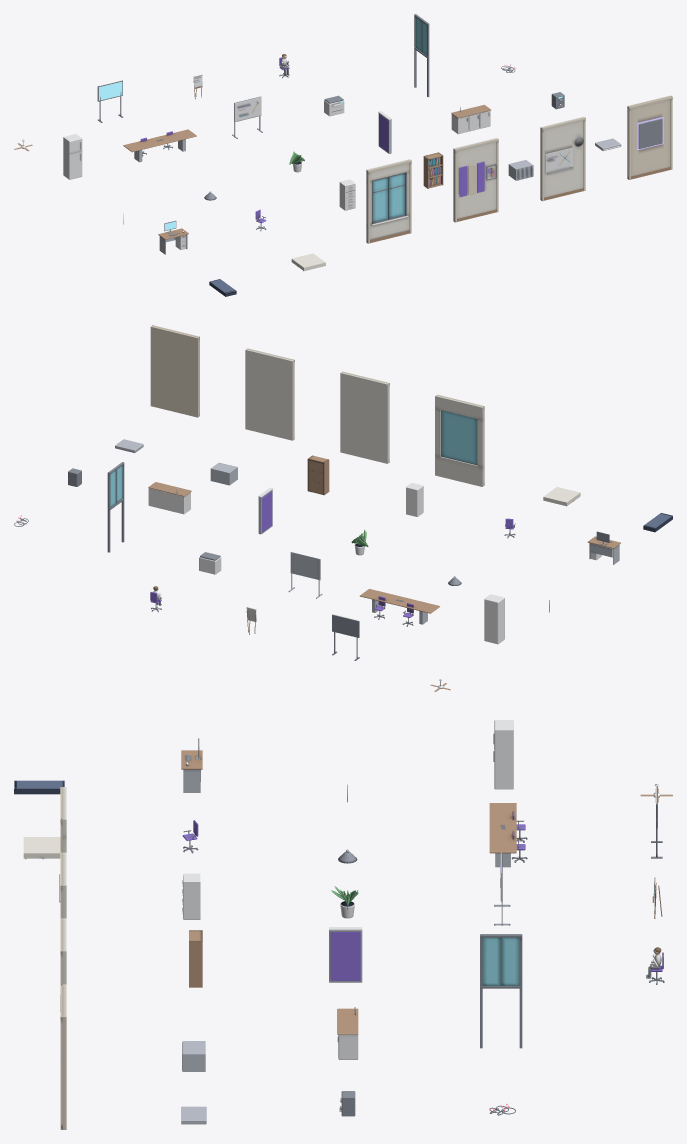
File: office.glb
The picture shows the model from 3 angles, top to bottom: view 1: azimuth 30°, elevation 25°; view 2: azimuth 150°, elevation 25°; view 3: azimuth 270°, elevation 25°; orthographic projection. The views are drawn at different scales.
Parts seen in each view (by area): view 1: WallWindow, WallLogo, WallBoard, WallPlain, Counter, MeetingTable, Fridge, GlassTransom, Shelf, Whiteboard, Desk, Partition (+2 smaller); view 2: WallBoard, WallWindow, WallPlain, WallLogo, MeetingTable, Counter, GlassTransom, Fridge, Shelf, Whiteboard, Desk, WorkshopScreen (+2 smaller); view 3: GlassTransom, MeetingTable, Partition, Fridge, Counter, WallLogo, Desk, Cabinet, CeilingPanel, Shelf, DuctBody, FloorTile.
Part boxes in pixels (x1=…): WallWindow: x1=366, y1=159, x2=411, y2=243; WallLogo: x1=627, y1=95, x2=672, y2=179; WallBoard: x1=540, y1=116, x2=585, y2=201; WallPlain: x1=453, y1=138, x2=498, y2=222; Counter: x1=451, y1=104, x2=490, y2=134; MeetingTable: x1=123, y1=129, x2=196, y2=162; Fridge: x1=63, y1=134, x2=82, y2=179; GlassTransom: x1=414, y1=14, x2=429, y2=96; Shelf: x1=423, y1=152, x2=443, y2=188; Whiteboard: x1=232, y1=96, x2=262, y2=138; Desk: x1=158, y1=220, x2=188, y2=254; Partition: x1=378, y1=111, x2=391, y2=153; WallBoard: x1=245, y1=348, x2=294, y2=440; WallWindow: x1=435, y1=394, x2=484, y2=486; WallPlain: x1=340, y1=371, x2=389, y2=463; WallLogo: x1=150, y1=325, x2=199, y2=417; MeetingTable: x1=360, y1=589, x2=439, y2=626; Counter: x1=148, y1=482, x2=191, y2=514; GlassTransom: x1=107, y1=462, x2=124, y2=552; Fridge: x1=484, y1=594, x2=504, y2=644; Shelf: x1=307, y1=455, x2=329, y2=495; Whiteboard: x1=288, y1=552, x2=322, y2=598; Desk: x1=587, y1=531, x2=620, y2=564; WorkshopScreen: x1=332, y1=614, x2=359, y2=660; GlassTransom: x1=480, y1=934, x2=522, y2=1048; MeetingTable: x1=489, y1=803, x2=527, y2=867; Partition: x1=329, y1=927, x2=362, y2=982; Fridge: x1=493, y1=720, x2=513, y2=789; Counter: x1=337, y1=1007, x2=358, y2=1059; WallLogo: x1=60, y1=984, x2=66, y2=1129; Desk: x1=181, y1=738, x2=202, y2=792; Cabinet: x1=182, y1=873, x2=200, y2=919; CeilingPanel: x1=23, y1=837, x2=60, y2=859; Shelf: x1=189, y1=930, x2=202, y2=987; DuctBody: x1=182, y1=1041, x2=205, y2=1071; FloorTile: x1=14, y1=780, x2=64, y2=794.
Bounding box in the file's own units: 43.1 × 7.4 × 33.88.
